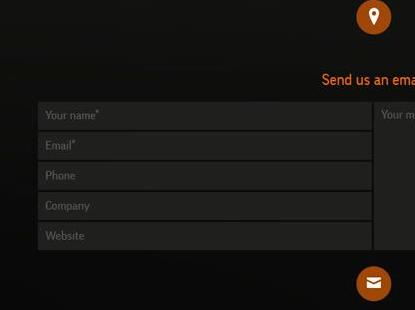field: (37, 100, 373, 130), (36, 130, 372, 160), (35, 160, 371, 190), (35, 190, 371, 220), (35, 220, 371, 250)
